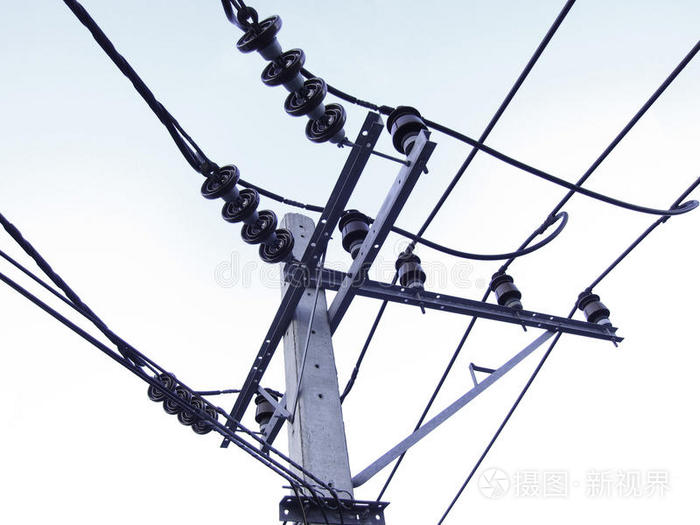insulator: (235, 13, 347, 143), (200, 163, 295, 267), (146, 372, 219, 433)
